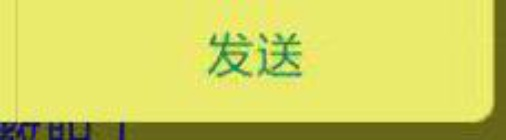Button: (1, 1, 505, 139)
